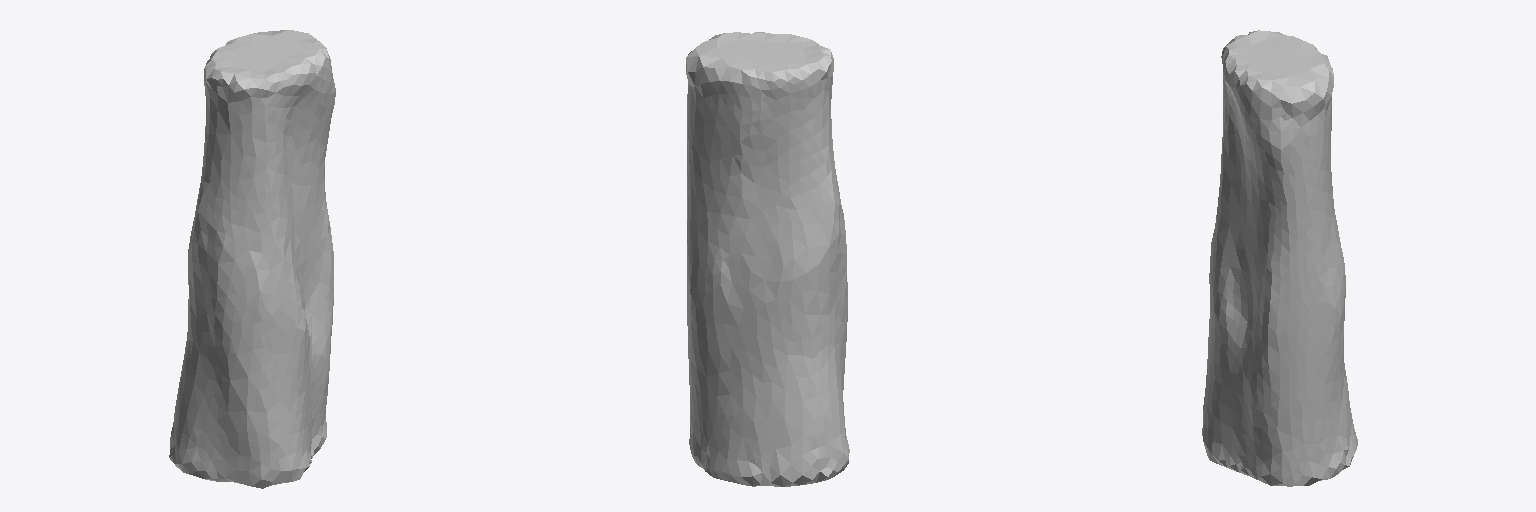
Rendered from RockPillars_1.obj.
The picture shows the model from 3 angles: view 1: azimuth 30°, elevation 25°; view 2: azimuth 150°, elevation 25°; view 3: azimuth 270°, elevation 25°; orthographic projection.
Visible parts, largest first — view 1: RockPillar01; view 2: RockPillar01; view 3: RockPillar01.
Boxes of the visible parts, box(x1,y1,x2,y2) form: RockPillar01: box(169, 30, 335, 488); RockPillar01: box(686, 32, 849, 486); RockPillar01: box(1202, 30, 1357, 486).
Size of the model in its own units: 17.01 by 42.67 by 14.79.